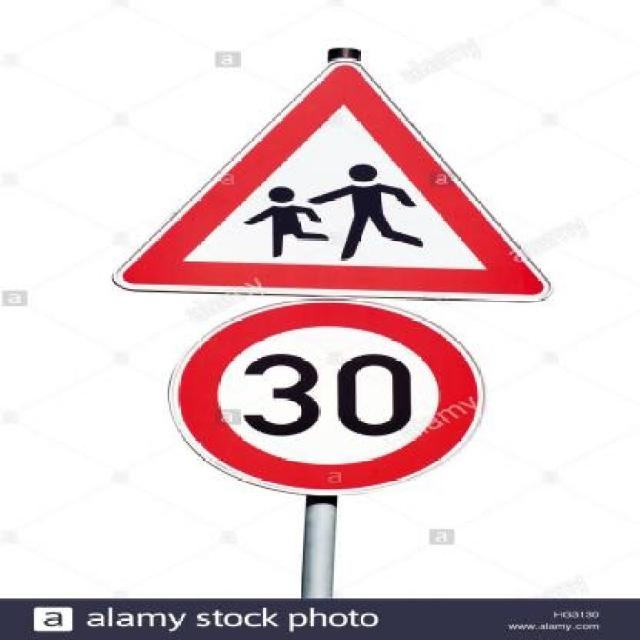forb_speed_over_30: (175, 298, 476, 498)
